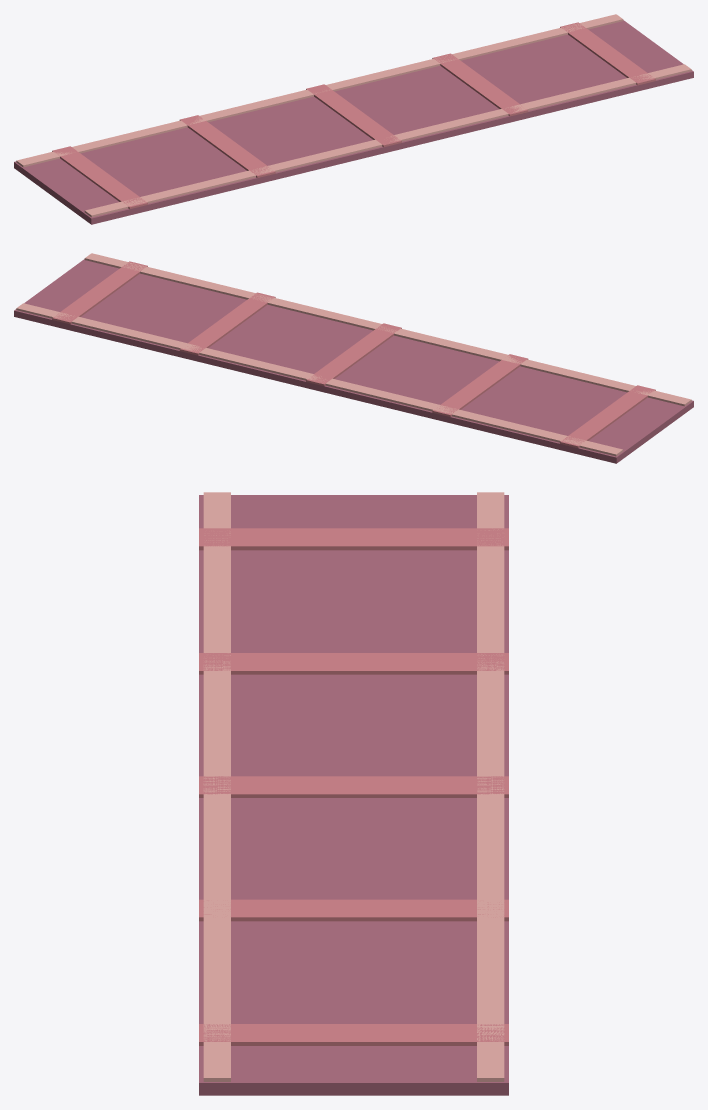
The model's file is aviso_reja.glb.
The picture shows the model from 3 angles, top to bottom: view 1: azimuth 30°, elevation 25°; view 2: azimuth 150°, elevation 25°; view 3: azimuth 270°, elevation 25°; orthographic projection. The views are drawn at different scales.
Visible parts, largest first — view 1: aviso_reja; view 2: aviso_reja; view 3: aviso_reja.
Part boxes in pixels (x1,y1,x2,y2): aviso_reja: (14, 14, 693, 224); aviso_reja: (14, 253, 693, 463); aviso_reja: (199, 492, 508, 1095).
Size of the model in its own units: 4.58 by 0.059 by 1.02.
